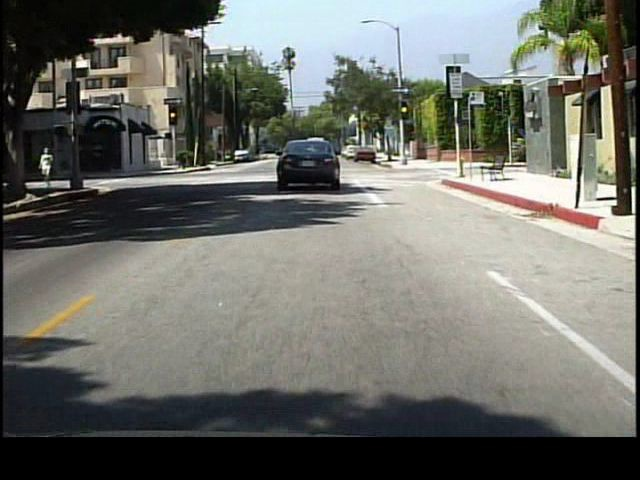person: (42, 145, 61, 190)
